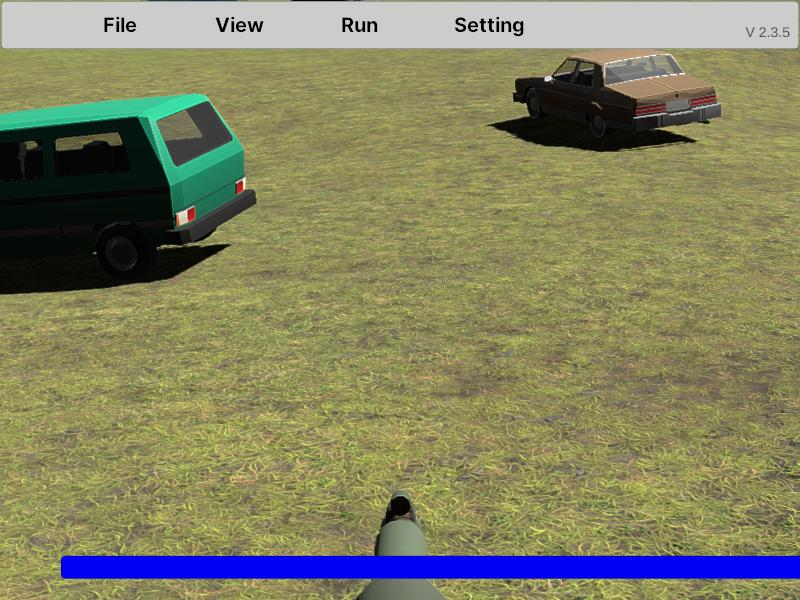car: (0, 96, 256, 283), (514, 52, 722, 142)
